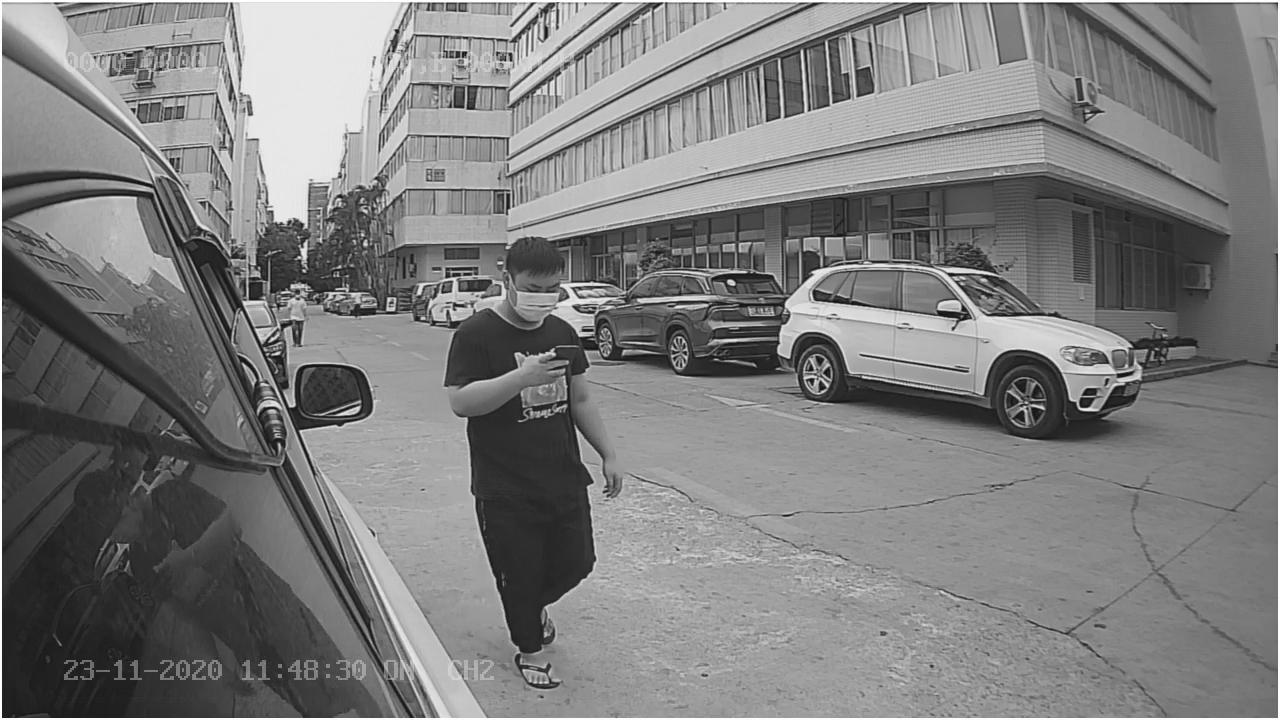person: (450, 231, 630, 686)
